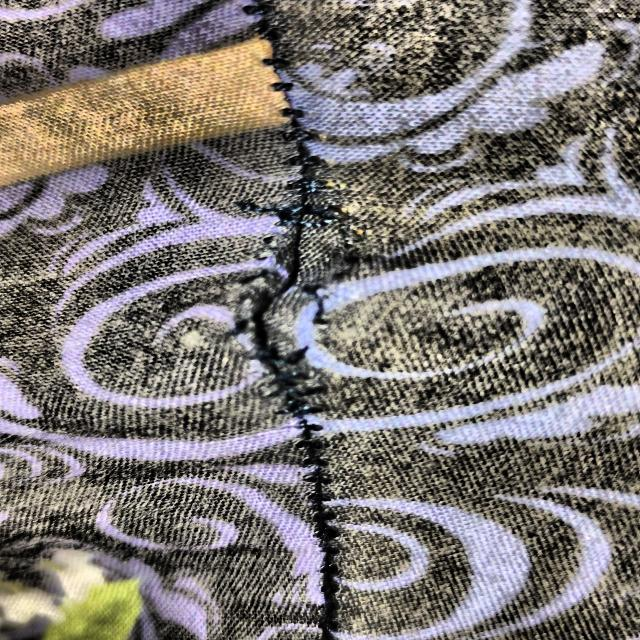seam: (159, 160, 417, 484)
